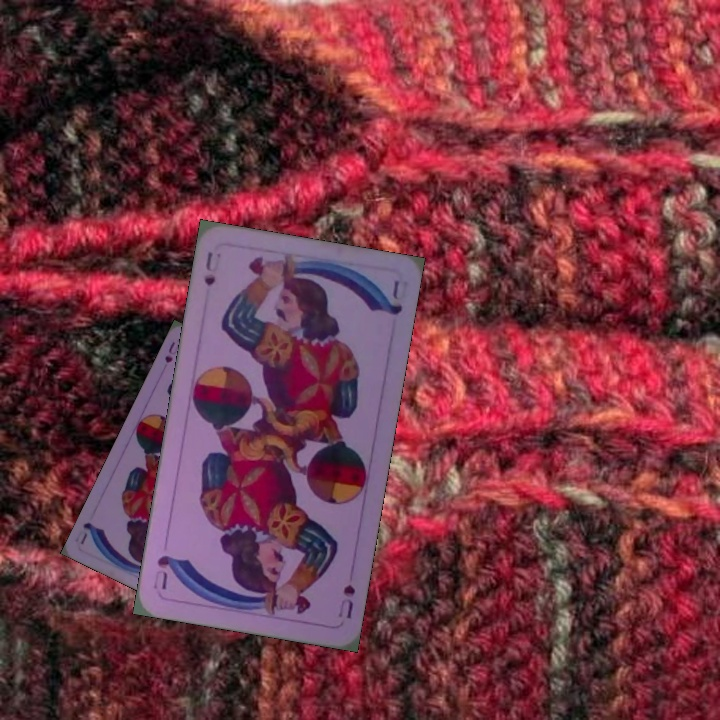SU: (334, 580, 358, 621), (200, 247, 218, 289), (161, 338, 183, 365)
